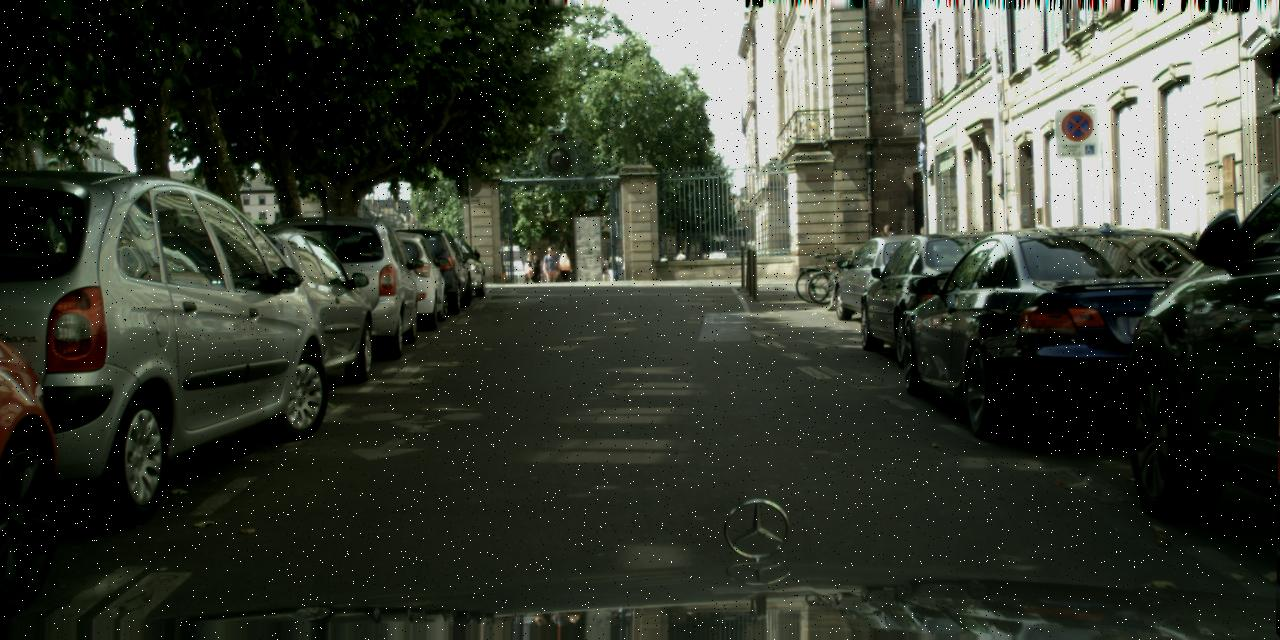ped: (884, 224, 899, 264), (542, 246, 557, 282), (917, 226, 931, 262), (522, 250, 535, 282), (558, 252, 570, 280), (530, 255, 540, 282)
